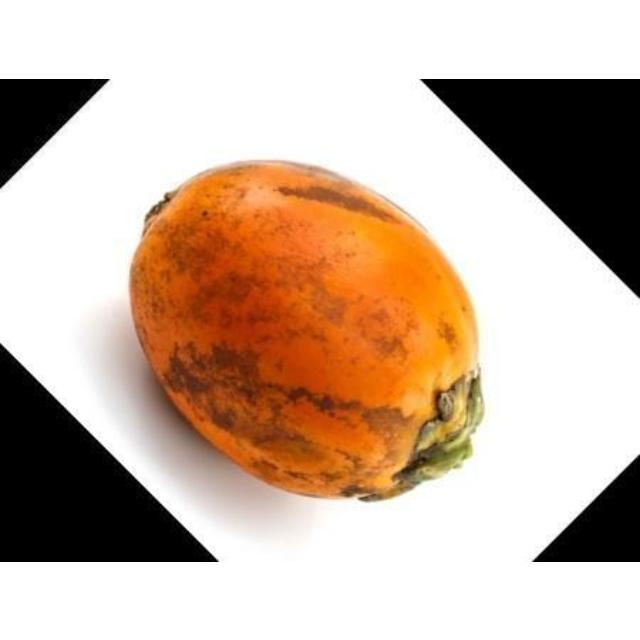good: (129, 159, 485, 502)
